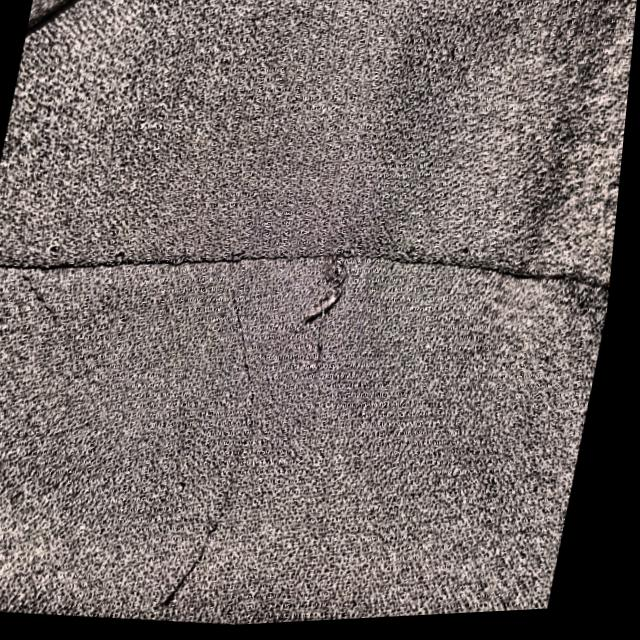Stitch: (77, 98, 423, 635)
